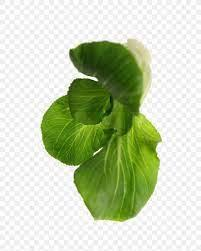Healthy-Pechay: (36, 30, 165, 204)
